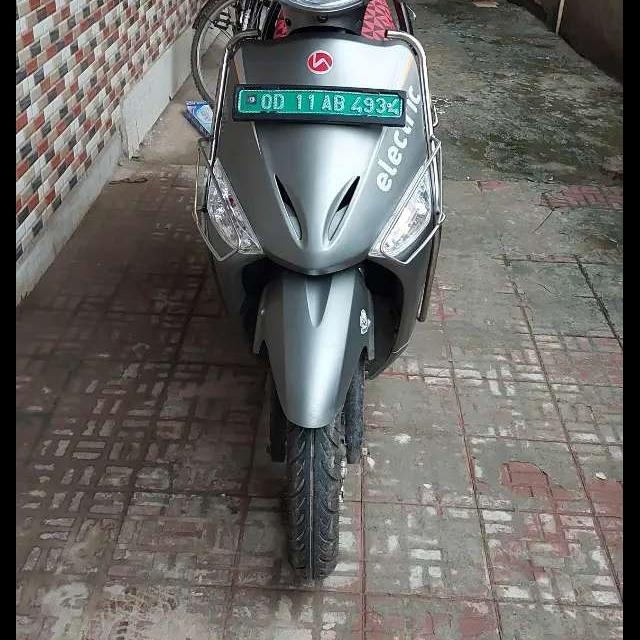Indian_Number_Plate: (235, 86, 406, 122)
